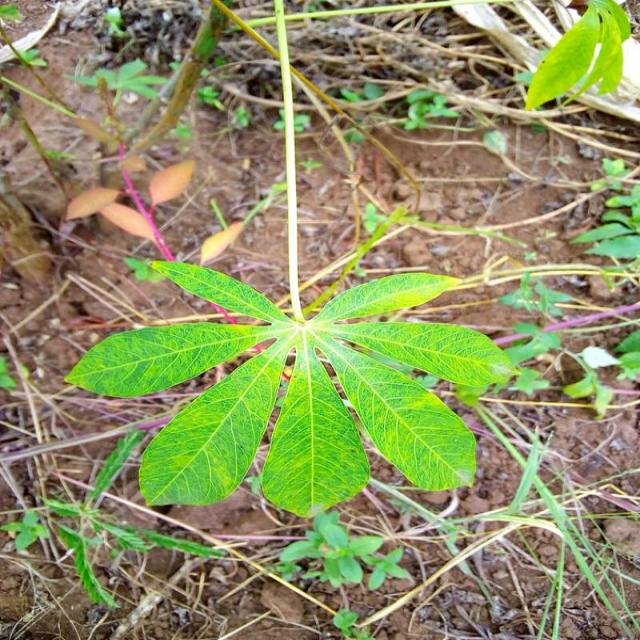cassava leaf: (64, 253, 514, 517), (137, 332, 293, 506), (314, 330, 478, 492), (260, 341, 370, 518), (522, 0, 630, 112)
